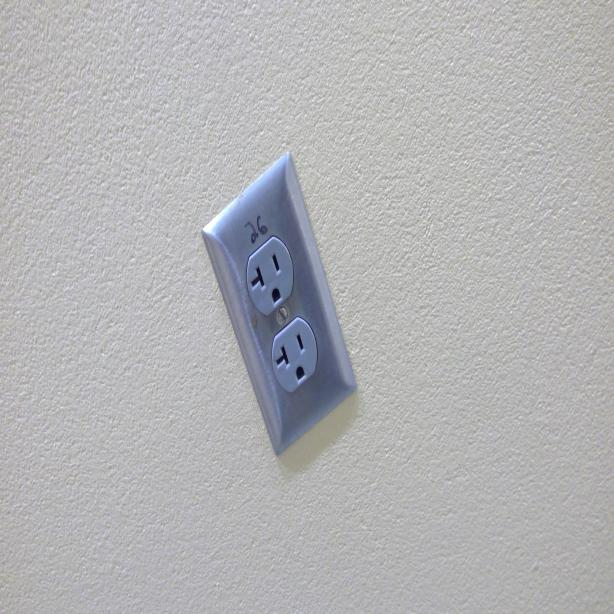typeb: (246, 246, 294, 309), (274, 327, 313, 386)
